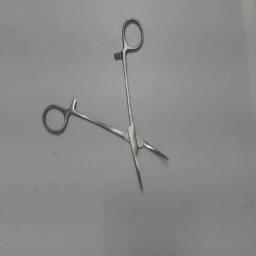Crile Artery Forceps: (40, 12, 174, 196)
